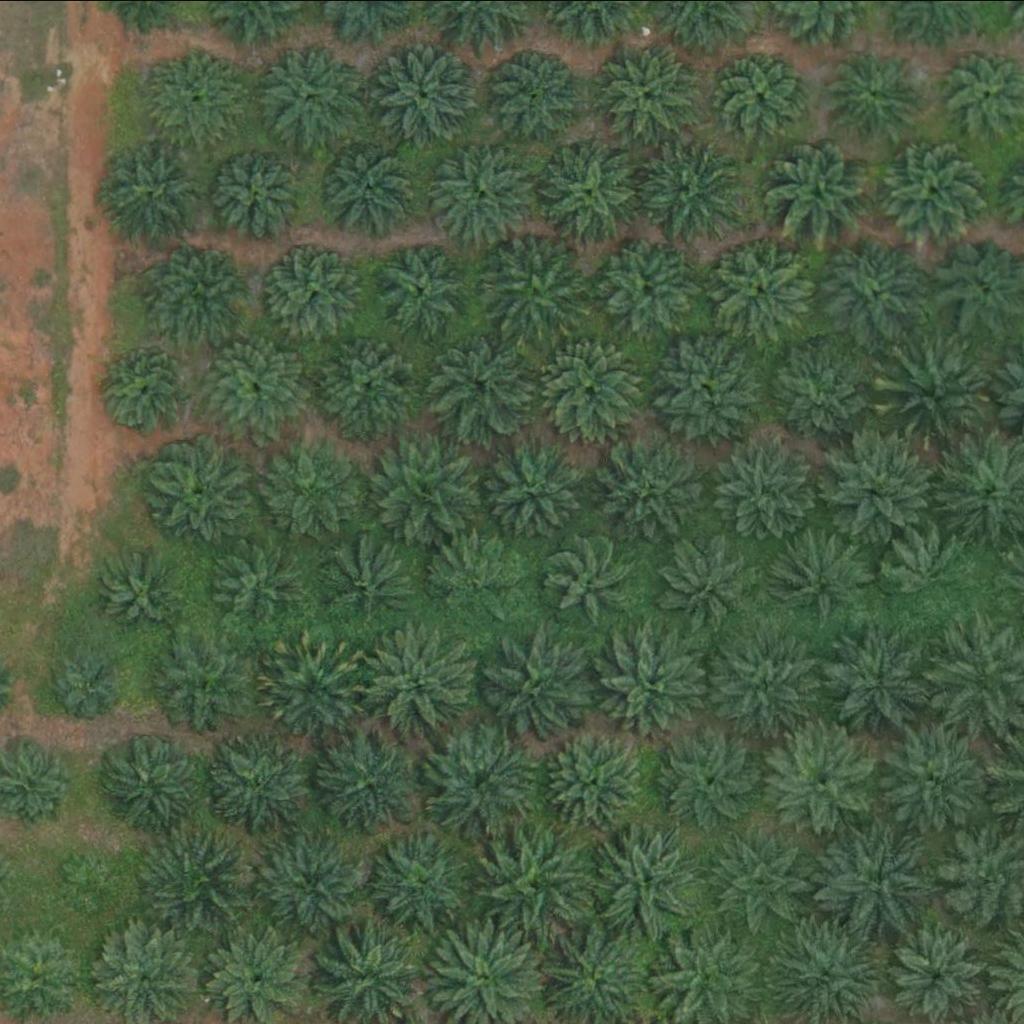Kelapa_Sawit: (201, 328, 315, 441), (313, 324, 427, 437), (477, 227, 591, 340), (534, 135, 648, 248), (633, 127, 747, 240), (879, 724, 993, 837), (708, 826, 822, 939), (818, 824, 932, 937), (257, 630, 370, 743), (98, 727, 211, 840), (361, 626, 474, 739), (478, 631, 591, 744), (600, 627, 713, 740), (708, 429, 821, 542), (765, 133, 878, 246), (875, 131, 988, 244), (822, 427, 935, 540), (427, 138, 541, 250), (206, 727, 319, 839), (135, 826, 248, 938), (257, 828, 370, 940), (364, 830, 477, 942), (480, 831, 593, 943), (594, 823, 707, 935), (427, 728, 540, 840), (651, 724, 764, 836), (708, 625, 821, 737), (371, 427, 484, 539), (479, 429, 592, 541), (428, 325, 541, 437), (652, 326, 765, 438), (98, 134, 211, 246), (368, 34, 481, 146), (768, 335, 881, 447), (883, 336, 996, 448), (823, 626, 936, 738), (766, 726, 879, 838), (154, 635, 255, 735), (319, 734, 420, 834), (542, 731, 643, 831), (603, 433, 704, 533), (539, 335, 640, 435), (153, 238, 254, 338), (596, 233, 697, 333), (212, 137, 313, 237), (318, 135, 419, 235), (150, 44, 251, 144), (256, 42, 357, 142), (824, 44, 925, 144), (711, 240, 812, 340), (823, 243, 924, 343), (769, 528, 870, 628), (153, 442, 253, 542), (263, 429, 363, 529), (262, 238, 362, 338), (373, 235, 473, 335), (484, 43, 584, 143), (601, 41, 701, 141), (711, 44, 811, 144), (98, 547, 186, 635), (328, 536, 416, 624), (886, 531, 974, 619), (218, 532, 306, 619), (432, 533, 520, 620), (546, 538, 634, 625), (662, 537, 750, 624), (101, 347, 189, 434), (56, 654, 119, 717), (59, 853, 122, 915)
